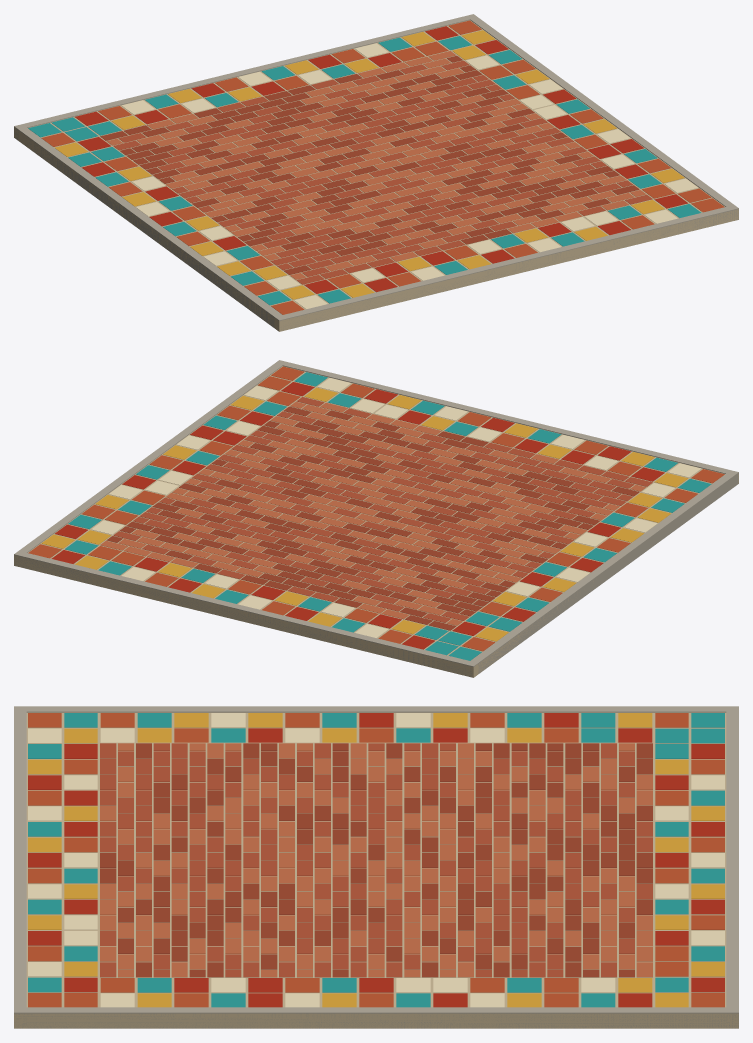
File: suelo-aceras-ladrillo-plataforma-casa.glb
3 renders of one model, top to bottom at view 1: azimuth 30°, elevation 25°; view 2: azimuth 150°, elevation 25°; view 3: azimuth 270°, elevation 25°, orthographic. The views are drawn at different scales.
Visible parts, largest first — view 1: plataforma_casa_AceraBase, plataforma_casa_LadrilloA, plataforma_casa_LadrilloC, plataforma_casa_LadrilloB, plataforma_casa_Bordillo, plataforma_casa_BaldosaTurquesa, plataforma_casa_BaldosaTerracota, plataforma_casa_BaldosaRoja, plataforma_casa_BaldosaMostaza, plataforma_casa_BaldosaCrema; view 2: plataforma_casa_AceraBase, plataforma_casa_LadrilloA, plataforma_casa_LadrilloC, plataforma_casa_LadrilloB, plataforma_casa_Bordillo, plataforma_casa_BaldosaTurquesa, plataforma_casa_BaldosaTerracota, plataforma_casa_BaldosaRoja, plataforma_casa_BaldosaCrema, plataforma_casa_BaldosaMostaza; view 3: plataforma_casa_AceraBase, plataforma_casa_LadrilloA, plataforma_casa_LadrilloC, plataforma_casa_LadrilloB, plataforma_casa_Bordillo, plataforma_casa_BaldosaTurquesa, plataforma_casa_BaldosaTerracota, plataforma_casa_BaldosaRoja, plataforma_casa_BaldosaMostaza, plataforma_casa_BaldosaCrema.
Part boxes in pixels (box(x1,y1,x2,y2)): plataforma_casa_AceraBase: box(14, 20, 738, 331); plataforma_casa_LadrilloA: box(113, 60, 652, 284); plataforma_casa_LadrilloC: box(106, 51, 646, 279); plataforma_casa_LadrilloB: box(100, 56, 639, 274); plataforma_casa_Bordillo: box(14, 14, 738, 330); plataforma_casa_BaldosaTurquesa: box(28, 36, 701, 305); plataforma_casa_BaldosaTerracota: box(41, 20, 724, 314); plataforma_casa_BaldosaRoja: box(75, 26, 687, 293); plataforma_casa_BaldosaMostaza: box(55, 30, 684, 299); plataforma_casa_BaldosaCrema: box(121, 43, 697, 309); plataforma_casa_AceraBase: box(14, 366, 738, 677); plataforma_casa_LadrilloA: box(113, 397, 652, 622); plataforma_casa_LadrilloC: box(100, 402, 646, 625); plataforma_casa_LadrilloB: box(106, 406, 639, 630); plataforma_casa_Bordillo: box(14, 360, 738, 677); plataforma_casa_BaldosaTurquesa: box(65, 372, 711, 660); plataforma_casa_BaldosaTerracota: box(28, 366, 724, 651); plataforma_casa_BaldosaRoja: box(51, 382, 664, 649); plataforma_casa_BaldosaCrema: box(91, 378, 701, 638); plataforma_casa_BaldosaMostaza: box(41, 387, 687, 641); plataforma_casa_AceraBase: box(14, 712, 738, 1028); plataforma_casa_LadrilloA: box(100, 743, 652, 977); plataforma_casa_LadrilloC: box(100, 743, 652, 977); plataforma_casa_LadrilloB: box(100, 743, 652, 977); plataforma_casa_Bordillo: box(14, 706, 738, 1028); plataforma_casa_BaldosaTurquesa: box(28, 713, 724, 1007); plataforma_casa_BaldosaTerracota: box(28, 713, 724, 1007); plataforma_casa_BaldosaRoja: box(28, 713, 724, 1007); plataforma_casa_BaldosaMostaza: box(28, 713, 724, 1007); plataforma_casa_BaldosaCrema: box(28, 713, 724, 1007).
Bounding box in the file's own units: 8 × 0.192 × 8.
